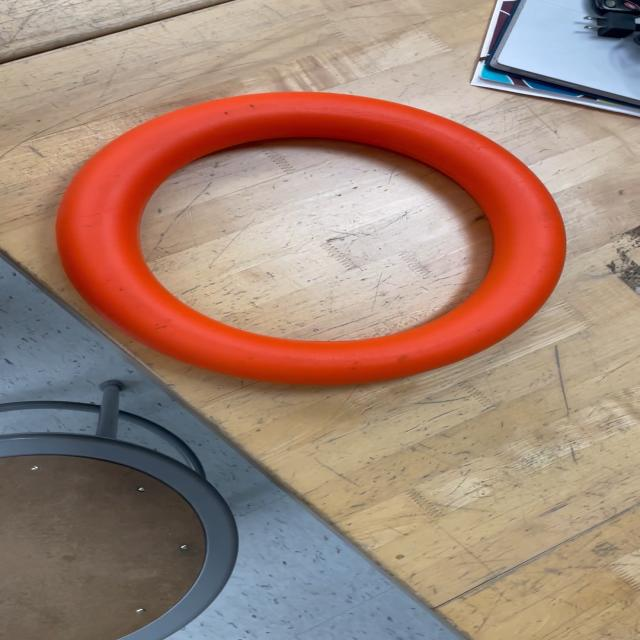note: (7, 89, 577, 377)
